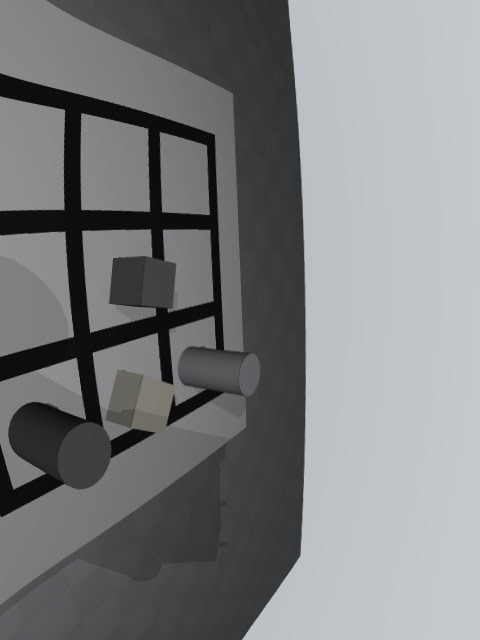can: (178, 346, 260, 397)
cube: (110, 256, 176, 309)
cylinder: (8, 402, 112, 489)
foam: (106, 370, 176, 434)
